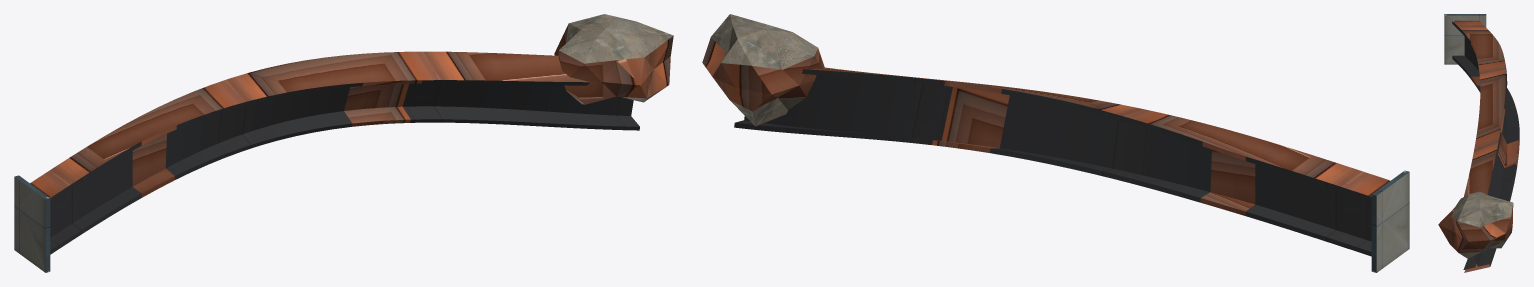
File: Wreckage_SteelBeam.fbx
3 renders of one model, left to right at view 1: azimuth 30°, elevation 25°; view 2: azimuth 150°, elevation 25°; view 3: azimuth 270°, elevation 25°, orthographic. The views are drawn at different scales.
Visible parts, largest first — view 1: Wreckage_SteelBeam; view 2: Wreckage_SteelBeam; view 3: Wreckage_SteelBeam.
Part boxes in pixels (x1,y1,x2,y2): Wreckage_SteelBeam: (14,14,673,272); Wreckage_SteelBeam: (702,14,1409,272); Wreckage_SteelBeam: (1438,14,1519,272).
Size of the model in its own units: 4.03 by 0.7344 by 0.6627.
Materials: 4 (4 with a texture image).
